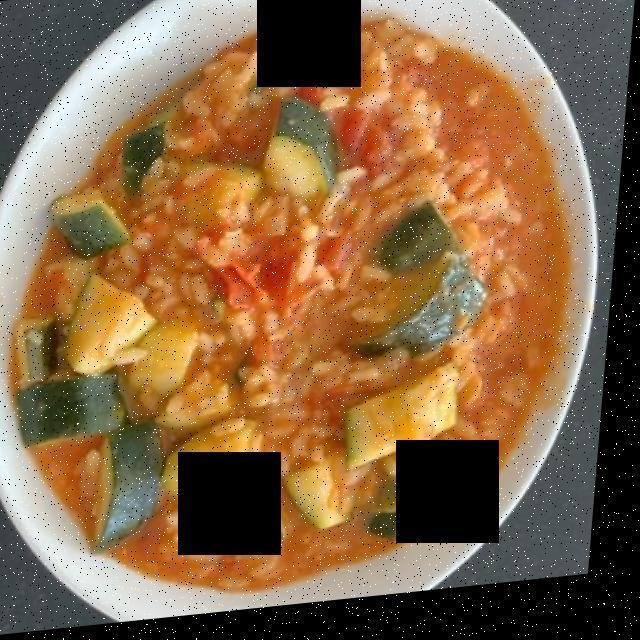rice: (126, 33, 531, 503)
soup: (46, 35, 561, 575)
